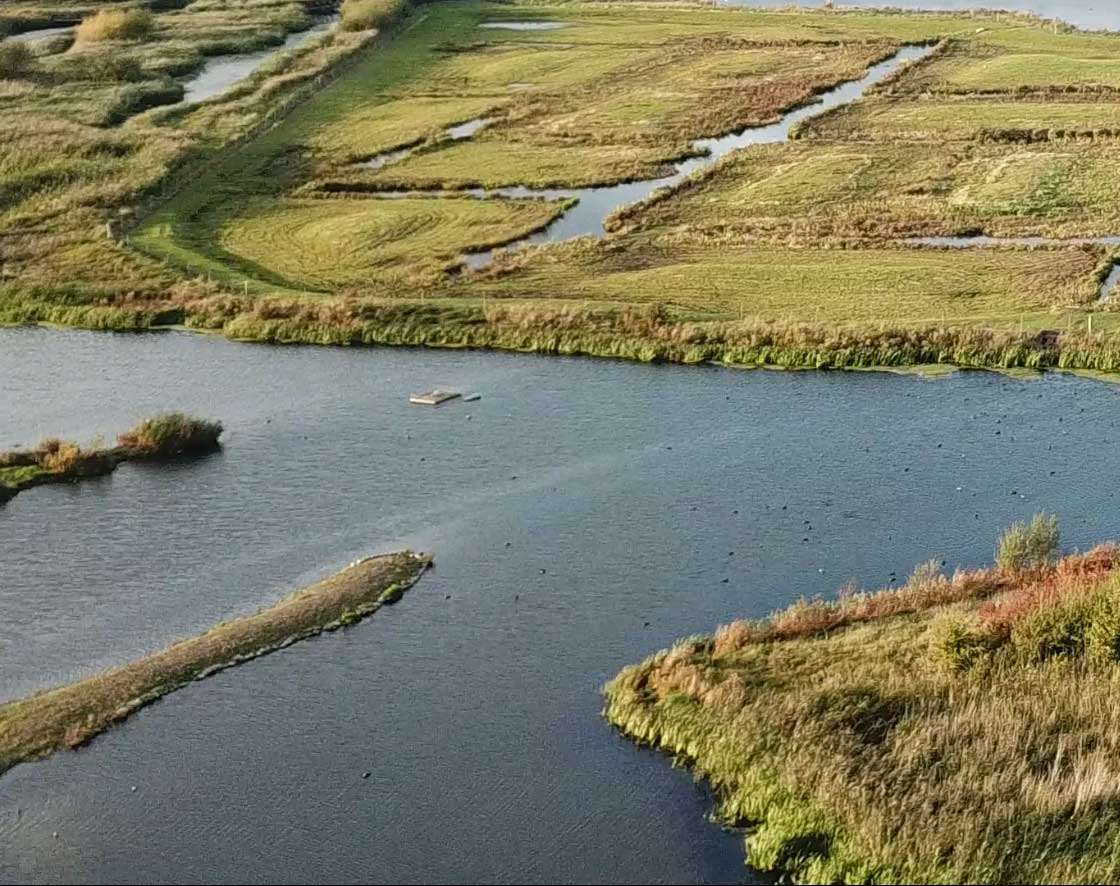water: (272, 368, 956, 549)
